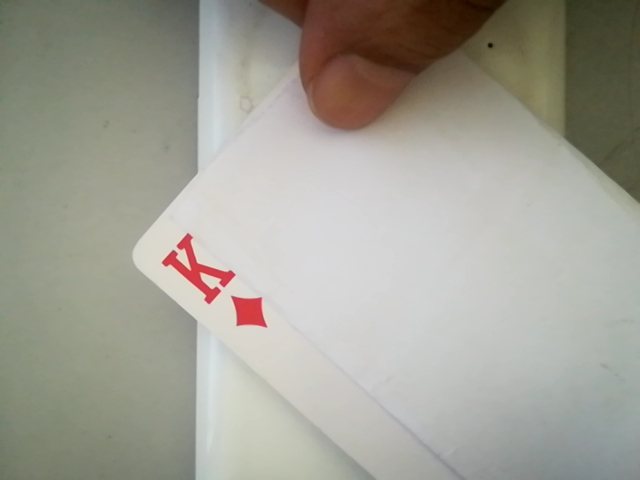fk k: (152, 236, 279, 332)
